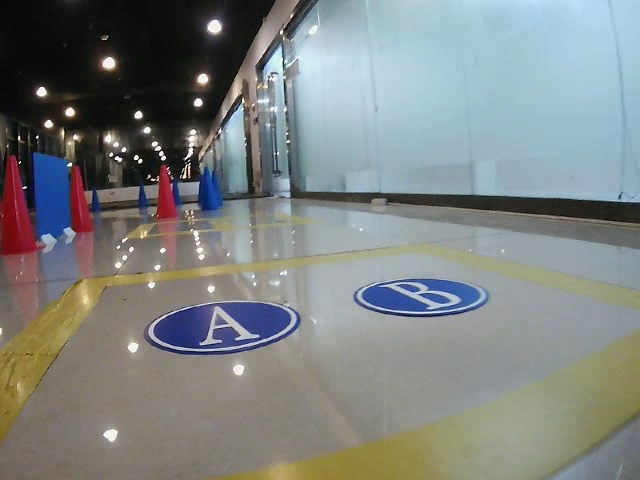A: (145, 299, 301, 354)
B: (357, 276, 485, 316)
